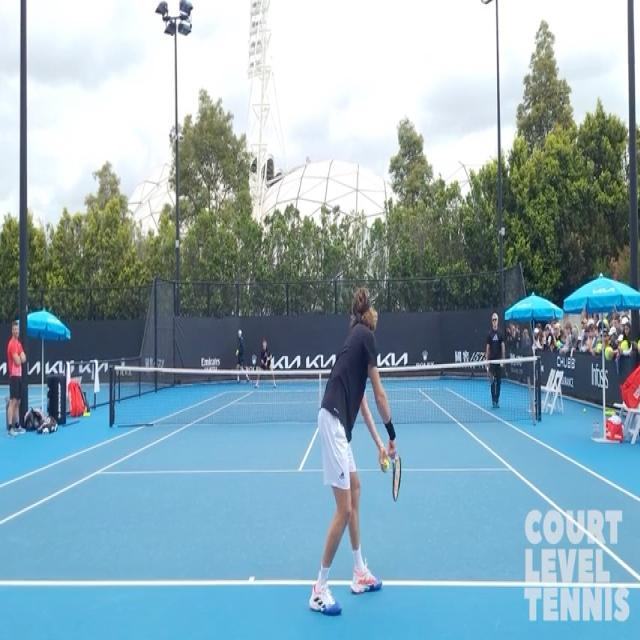serve_ready: (310, 282, 414, 630)
